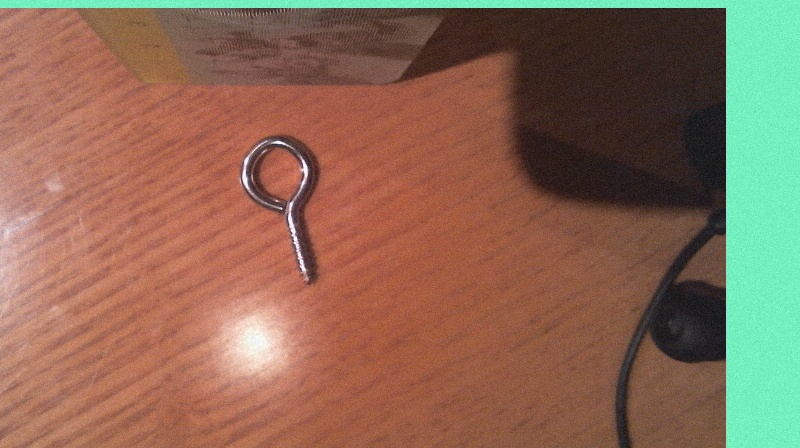O001: (235, 133, 324, 286)
